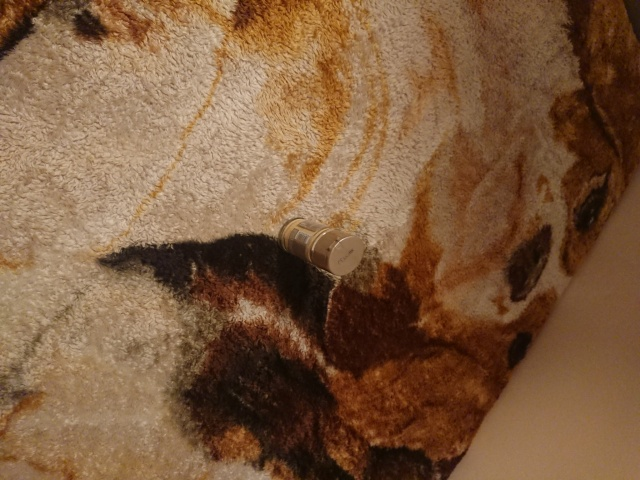Kotanyi Garlic Granules 70g: (276, 215, 365, 278)
